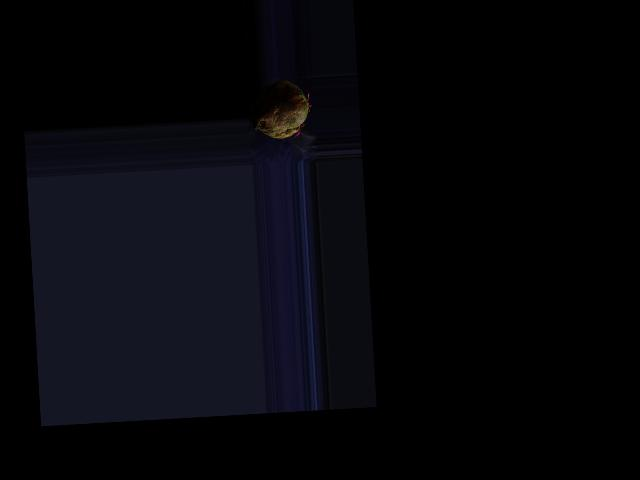beet: (247, 79, 312, 140)
